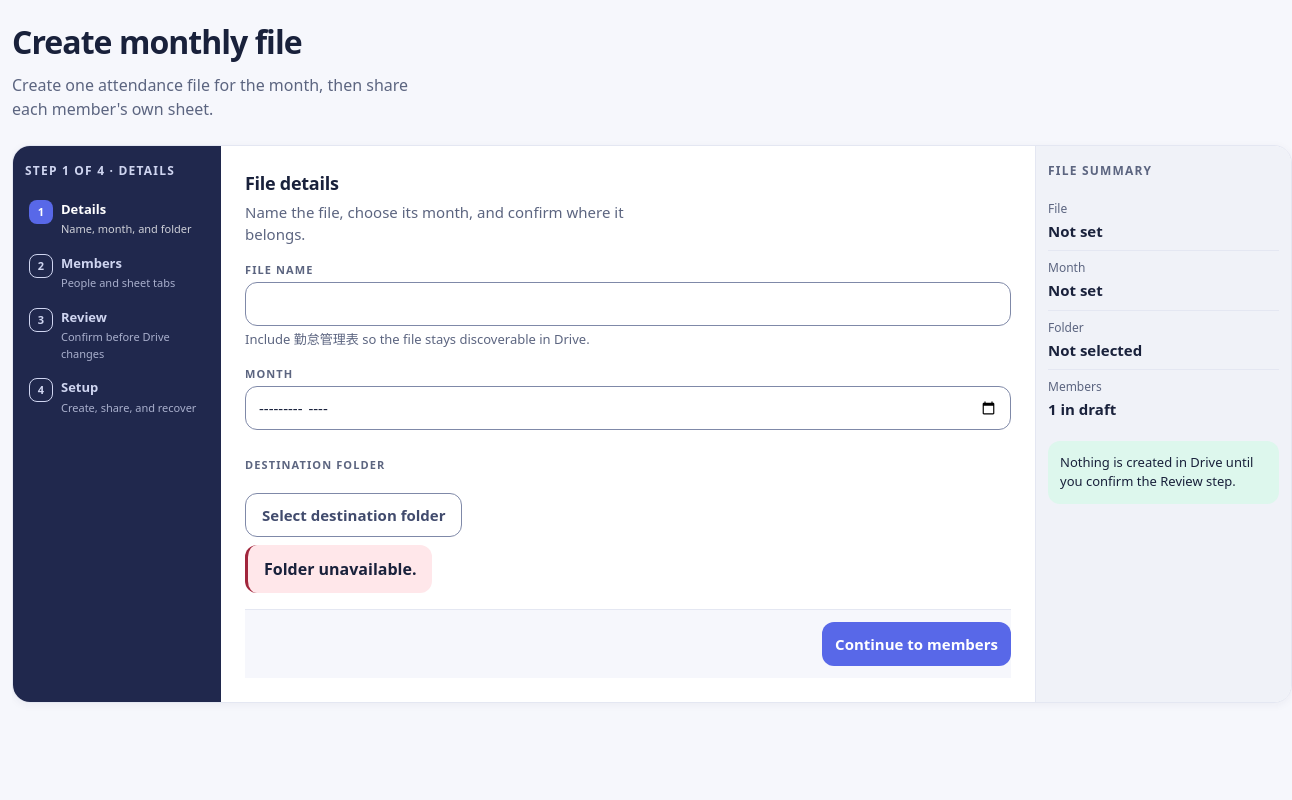
Scenario: NewFileWizard — stages › refuses to continue while the destination folder is unavailable
Expected: the text "Folder unavailable." is shown, [264, 557, 416, 581]
Type "202607勤怠管理表" into the field labelled "File name" at [628, 304], box [245, 282, 1011, 326]
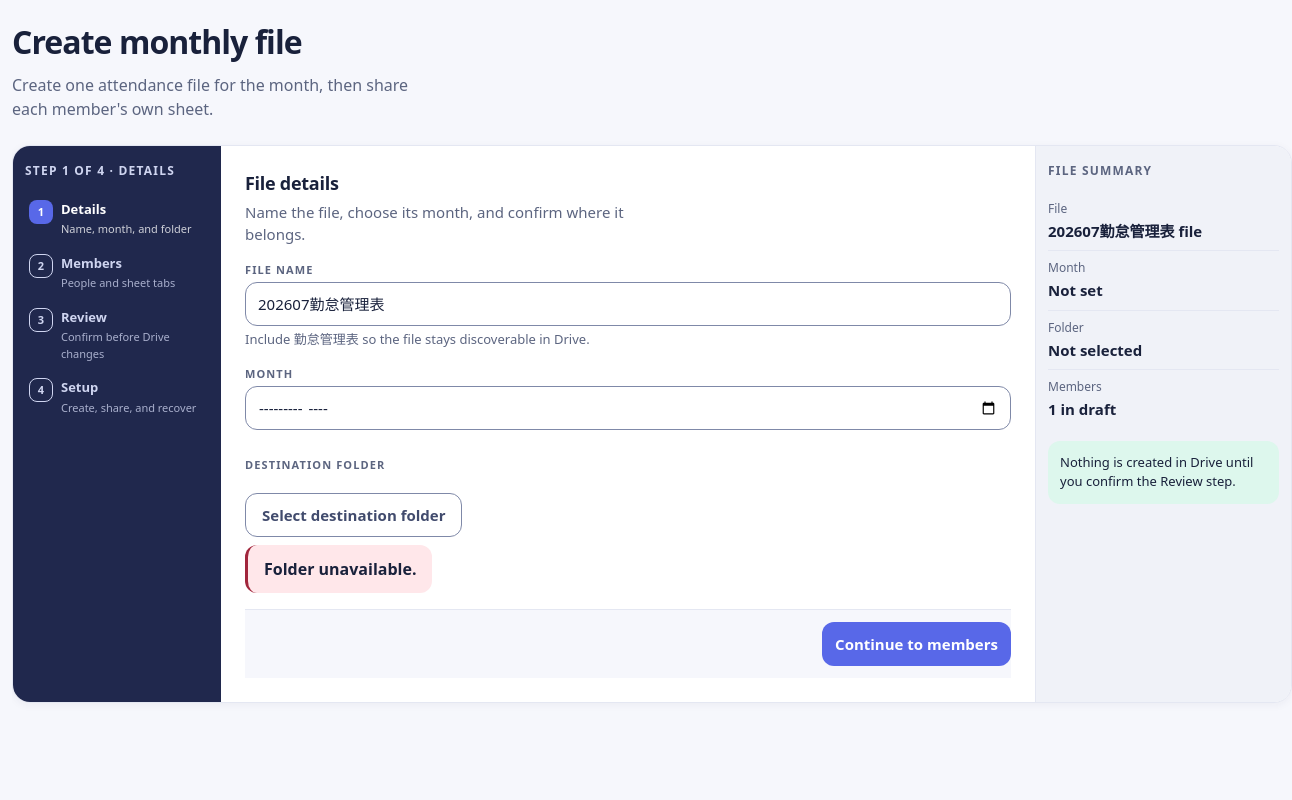
Type "2026-07" into the field labelled "Month" at [628, 408], box [245, 386, 1011, 430]
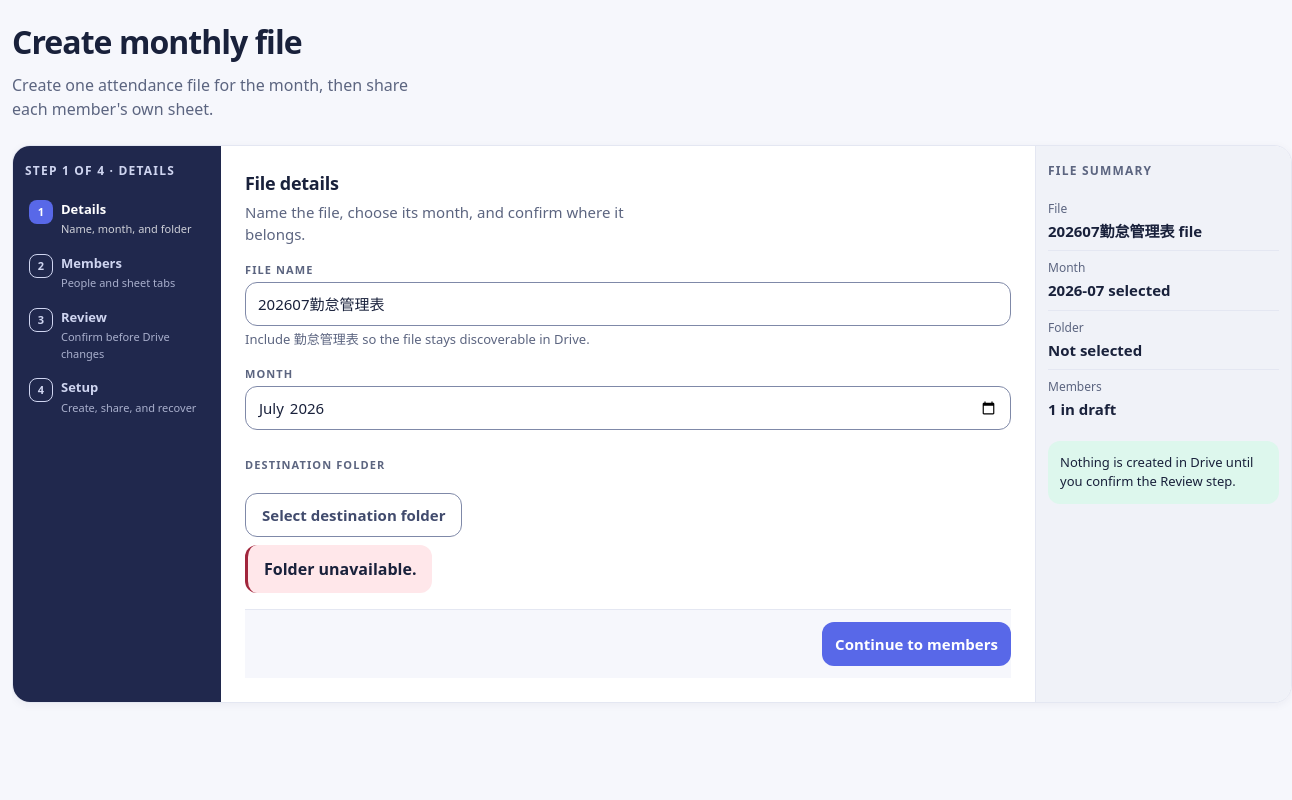
Click the button "Continue to members" at [917, 644], box [822, 622, 1011, 666]
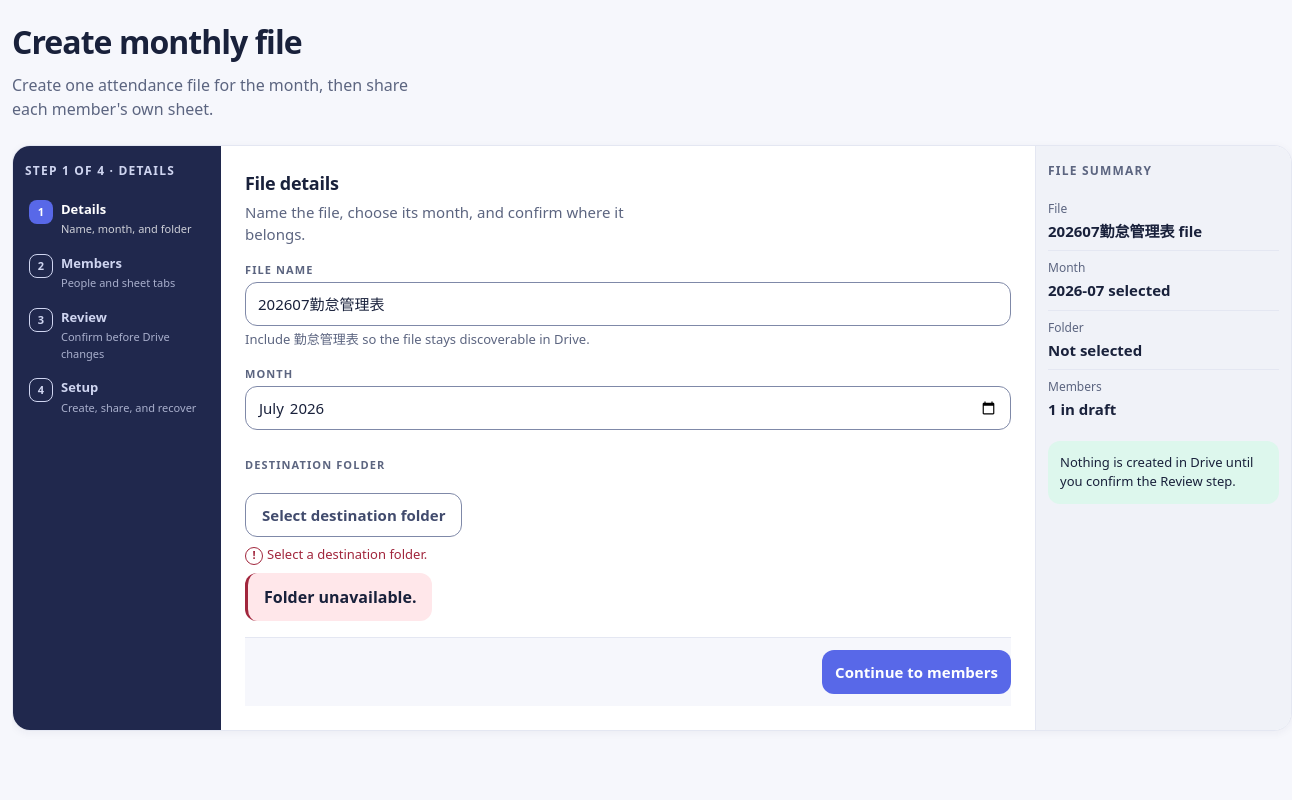
Result: the text "Select a destination folder." is shown at [245, 545, 427, 565]
